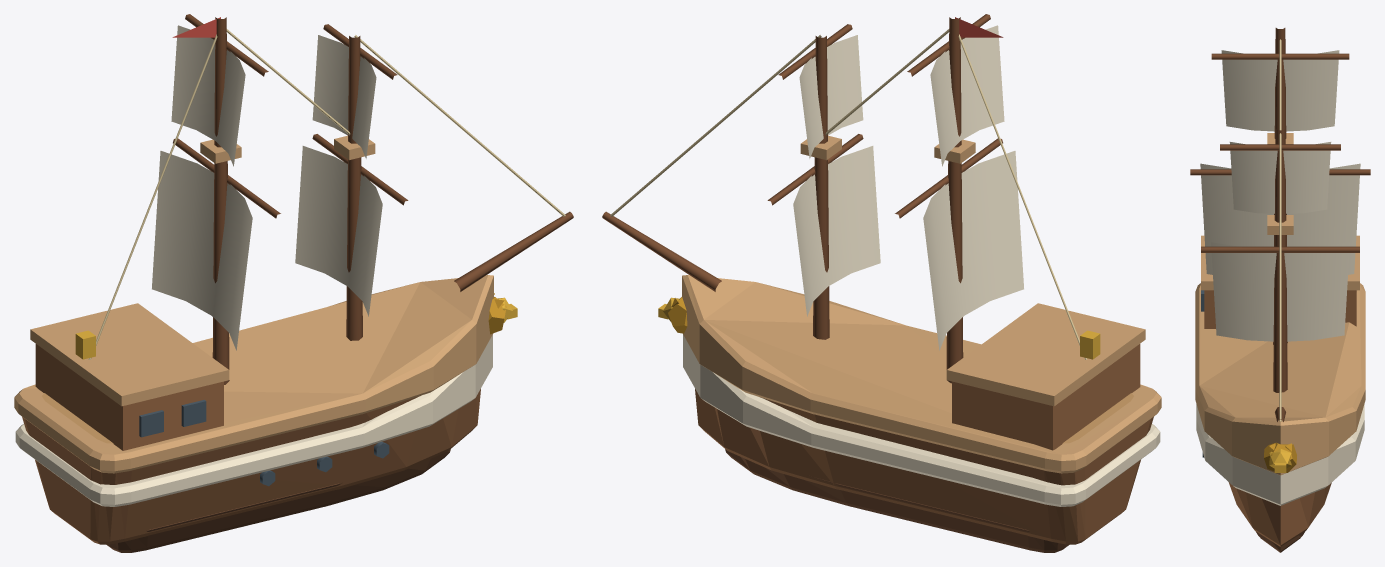
Rendered from merchant_ship.glb.
The picture shows the model from 3 angles, left to right: view 1: azimuth 30°, elevation 25°; view 2: azimuth 150°, elevation 25°; view 3: azimuth 270°, elevation 25°; orthographic projection. The views are drawn at different scales.
Parts seen in each view (by area): view 1: hull_rail, hull, mast_main_sail_0, hull_band, stern_castle_rail, mast_fore_sail_0, stern_castle, mast_main_sail_1, hull_bottom, mast_fore_sail_1, mast_main, mast_fore (+5 smaller); view 2: hull_rail, hull, hull_band, mast_main_sail_0, stern_castle_rail, mast_fore_sail_0, stern_castle, mast_main_sail_1, hull_bottom, mast_fore_sail_1, mast_main, mast_fore (+5 smaller); view 3: hull_rail, mast_fore_sail_0, mast_main_sail_1, mast_main_sail_0, mast_fore_sail_1, hull_band, hull, mast_fore, mast_fore_yard_0, mast_main, mast_main_yard_1, stay_fore (+9 smaller).
Part boxes in pixels (bbox=[...]): hull_rail: bbox=[14, 275, 493, 473]; hull: bbox=[22, 389, 480, 544]; mast_main_sail_0: bbox=[152, 151, 252, 350]; hull_band: bbox=[15, 334, 492, 506]; stern_castle_rail: bbox=[30, 303, 229, 406]; mast_fore_sail_0: bbox=[295, 146, 382, 316]; stern_castle: bbox=[35, 344, 223, 450]; mast_main_sail_1: bbox=[171, 25, 245, 166]; hull_bottom: bbox=[106, 449, 450, 552]; mast_fore_sail_1: bbox=[312, 35, 376, 158]; mast_main: bbox=[212, 17, 229, 384]; mast_fore: bbox=[346, 36, 362, 340]; hull_rail: bbox=[682, 275, 1161, 473]; hull: bbox=[695, 389, 1153, 544]; hull_band: bbox=[683, 334, 1160, 506]; mast_main_sail_0: bbox=[923, 151, 1023, 350]; stern_castle_rail: bbox=[946, 303, 1145, 406]; mast_fore_sail_0: bbox=[793, 146, 880, 316]; stern_castle: bbox=[952, 344, 1140, 450]; mast_main_sail_1: bbox=[930, 25, 1004, 166]; hull_bottom: bbox=[725, 449, 1069, 552]; mast_fore_sail_1: bbox=[799, 35, 863, 158]; mast_main: bbox=[946, 17, 963, 383]; mast_fore: bbox=[813, 36, 829, 339]; hull_rail: bbox=[1195, 283, 1365, 475]; mast_fore_sail_0: bbox=[1211, 242, 1349, 341]; mast_main_sail_1: bbox=[1221, 50, 1339, 131]; mast_main_sail_0: bbox=[1200, 163, 1360, 274]; mast_fore_sail_1: bbox=[1229, 142, 1331, 213]; hull_band: bbox=[1196, 404, 1364, 505]; hull: bbox=[1228, 482, 1331, 546]; mast_fore: bbox=[1273, 129, 1287, 392]; mast_fore_yard_0: bbox=[1201, 246, 1359, 252]; mast_main: bbox=[1273, 28, 1287, 344]; mast_main_yard_1: bbox=[1211, 53, 1349, 59]; stay_fore: bbox=[1279, 128, 1281, 421].
Size of the model in its own units: 3.18 by 2.91 by 1.1.
